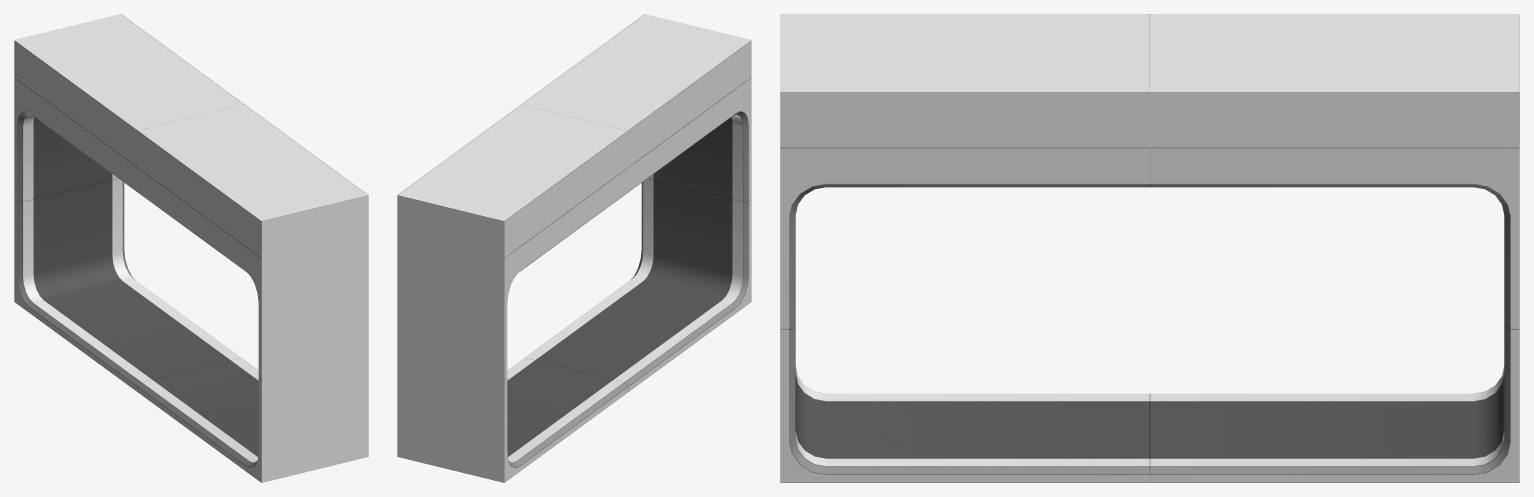
The model's file is Wall_Int_Door_01.FBX.
The picture shows the model from 3 angles, left to right: view 1: azimuth 30°, elevation 25°; view 2: azimuth 150°, elevation 25°; view 3: azimuth 270°, elevation 25°; orthographic projection. The views are drawn at different scales.
Parts seen in each view (by area): view 1: Wall_Int_Door_01; view 2: Wall_Int_Door_01; view 3: Wall_Int_Door_01.
Part boxes in pixels (x1,y1,x2,y2): Wall_Int_Door_01: (14,14,368,482); Wall_Int_Door_01: (397,14,751,482); Wall_Int_Door_01: (780,14,1519,482).
Bounding box in the file's own units: 3 × 7 × 12.
